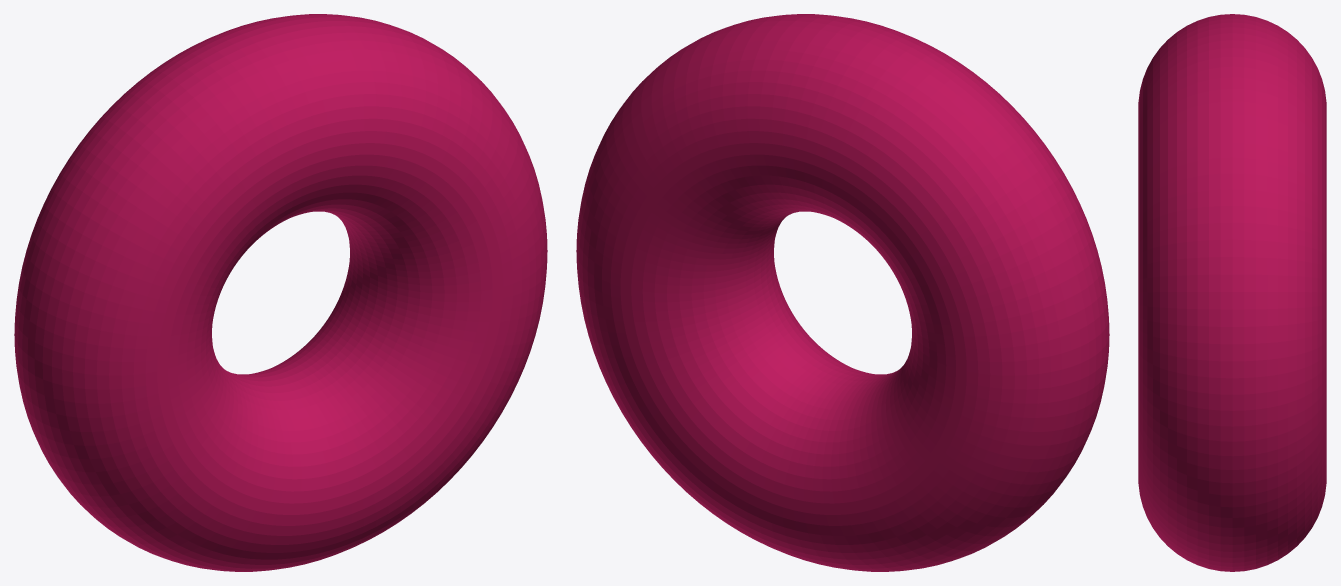
3 renders of one model, left to right at view 1: azimuth 30°, elevation 25°; view 2: azimuth 150°, elevation 25°; view 3: azimuth 270°, elevation 25°, orthographic. The views are drawn at different scales.
Parts seen in each view (by area): view 1: world; view 2: world; view 3: world.
Part boxes in pixels (x1=…): world: x1=14, y1=14, x2=547, y2=571; world: x1=576, y1=14, x2=1109, y2=571; world: x1=1138, y1=14, x2=1326, y2=571.
Size of the model in its own units: 20.13 by 20.13 by 6.79.
